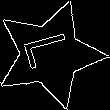L_E: (20, 32, 80, 76)
